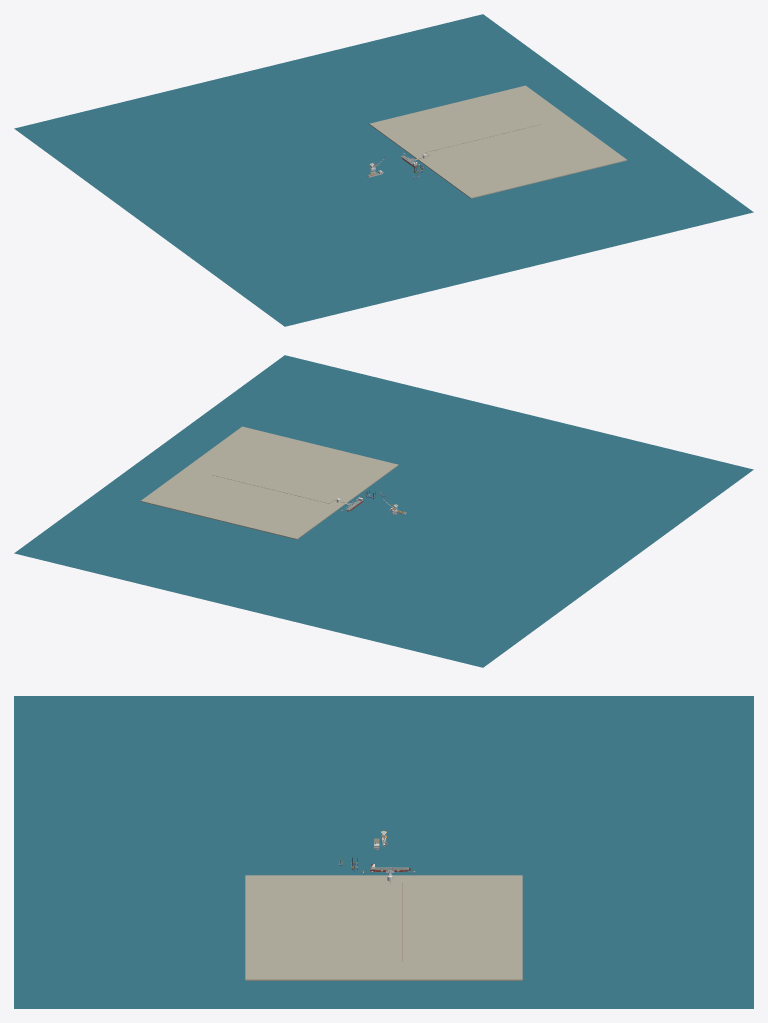
The model's file is plant-offshore.glb.
3 renders of one model, top to bottom at view 1: azimuth 30°, elevation 25°; view 2: azimuth 150°, elevation 25°; view 3: azimuth 270°, elevation 25°, orthographic. The views are drawn at different scales.
Parts seen in each view (by area): view 1: ENV_Water, ENV_Land; view 2: ENV_Water, ENV_Land; view 3: ENV_Water, ENV_Land.
Boxes of the visible parts, x1,y1,x2,y2 form: ENV_Water: [14, 14, 753, 326]; ENV_Land: [369, 85, 627, 198]; ENV_Water: [14, 355, 753, 667]; ENV_Land: [140, 426, 398, 539]; ENV_Water: [14, 696, 753, 1008]; ENV_Land: [245, 875, 522, 980].
Size of the model in its own units: 2400 by 112 by 2400.
